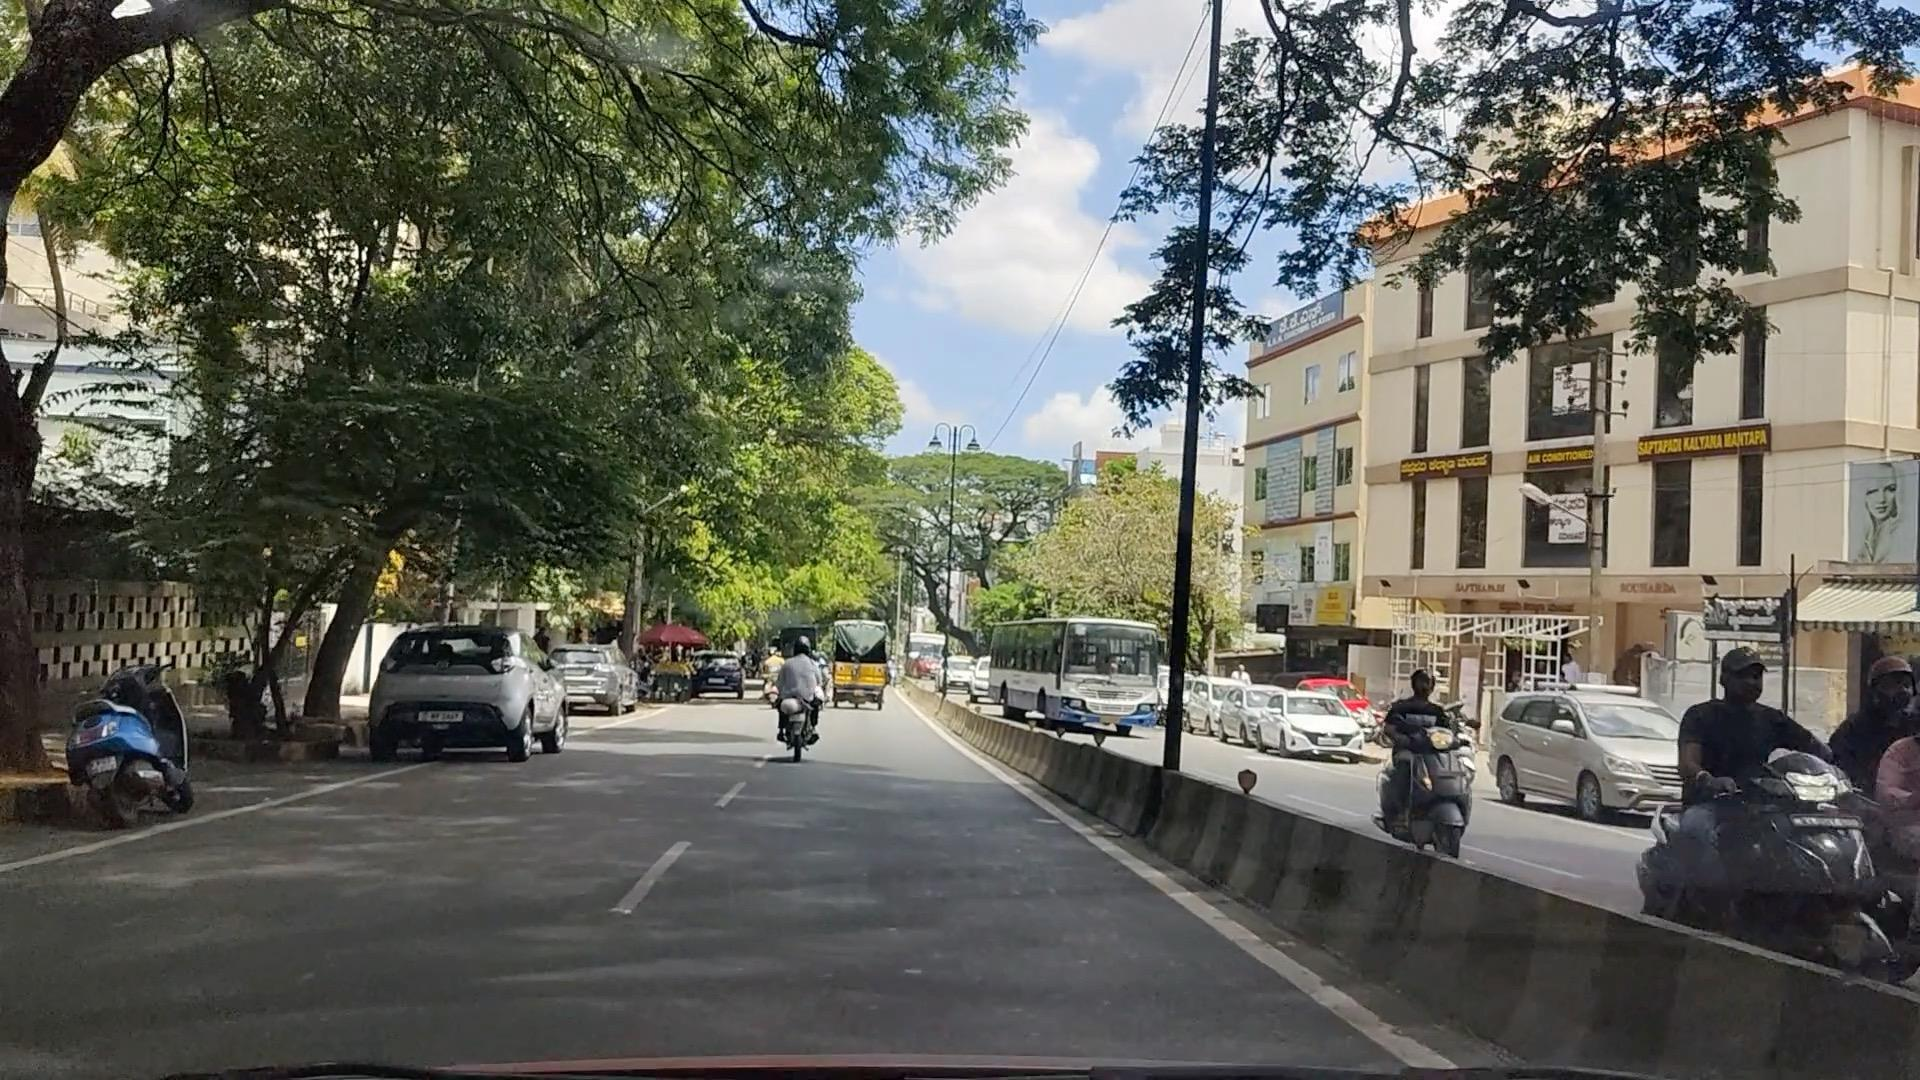LMV: (376, 624, 537, 744), (777, 624, 816, 769)
